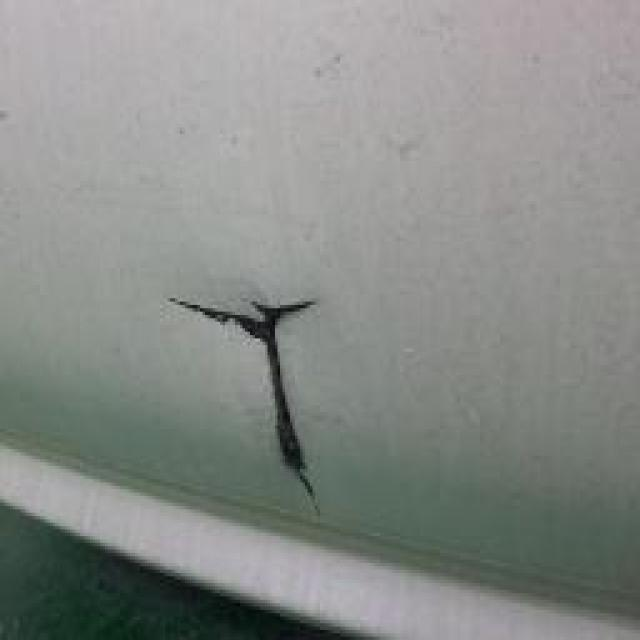Door: (152, 258, 380, 529)
